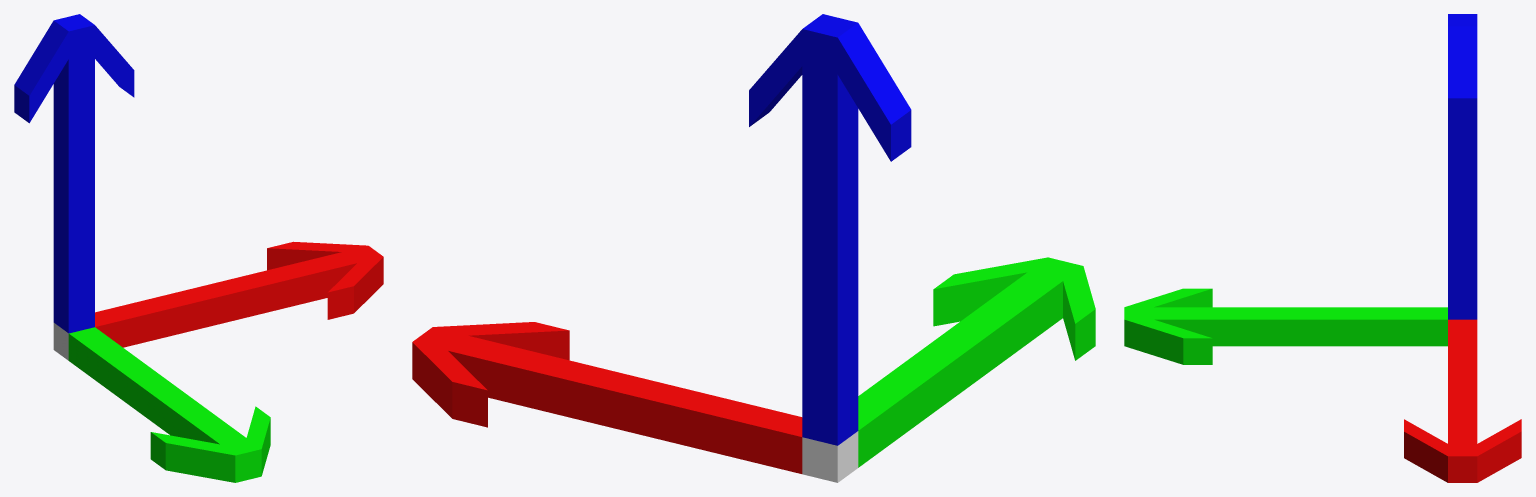
File: joint.obj
3 views of the same model, side by side, from view 1: azimuth 30°, elevation 25°; view 2: azimuth 150°, elevation 25°; view 3: azimuth 270°, elevation 25° (orthographic). The views are drawn at different scales.
Visible parts, largest first — view 1: Joint; view 2: Joint; view 3: Joint.
Part boxes in pixels (left/top/right/bottom): Joint: left=14, top=14, right=383, bottom=482; Joint: left=412, top=14, right=1095, bottom=482; Joint: left=1124, top=14, right=1521, bottom=482.
Bounding box in the file's own units: 2.7 × 2.4 × 2.7.
Materials: 1 (1 with a texture image).
